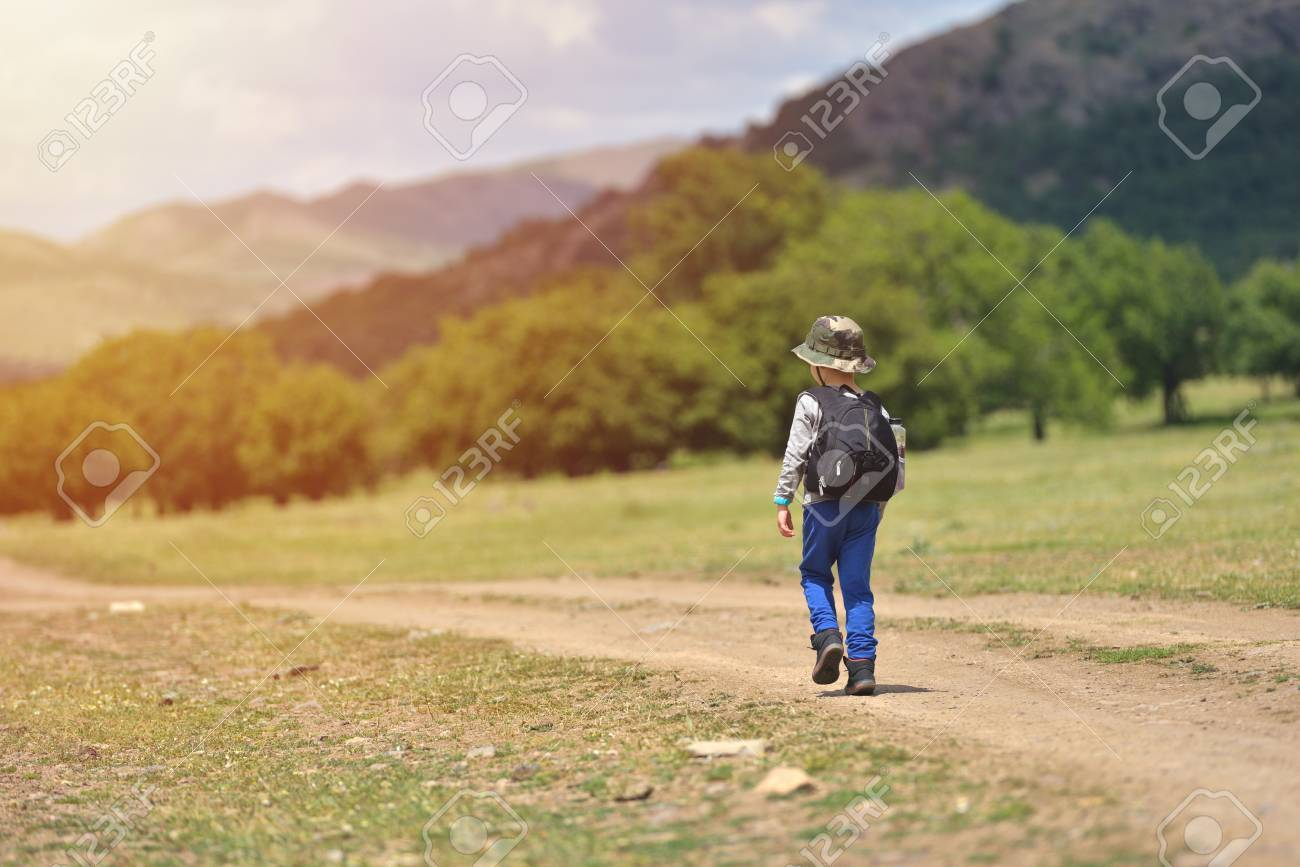person: (765, 307, 912, 701)
